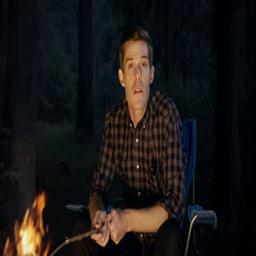fire: (2, 193, 49, 256)
